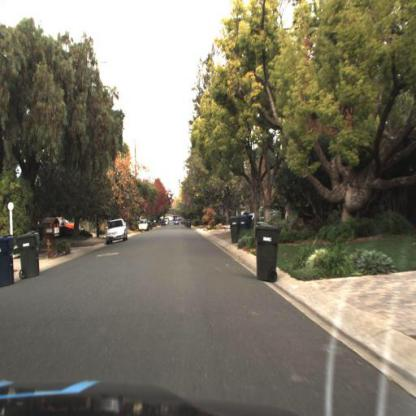car: (105, 218, 131, 245), (53, 216, 83, 235), (107, 219, 128, 245), (50, 213, 81, 230), (138, 218, 151, 232)
